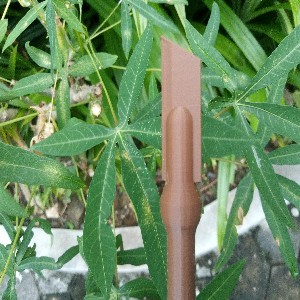cutter: (158, 35, 203, 300)
